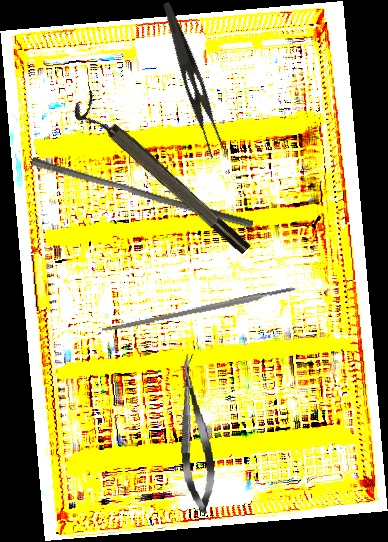Dressing Forceps: (145, 1, 234, 160)
Fixation Ring: (69, 90, 254, 265)
Micro Scissor: (171, 352, 219, 515)
Pusher: (29, 156, 256, 229)
Scalpel Handle: (101, 285, 297, 335)
